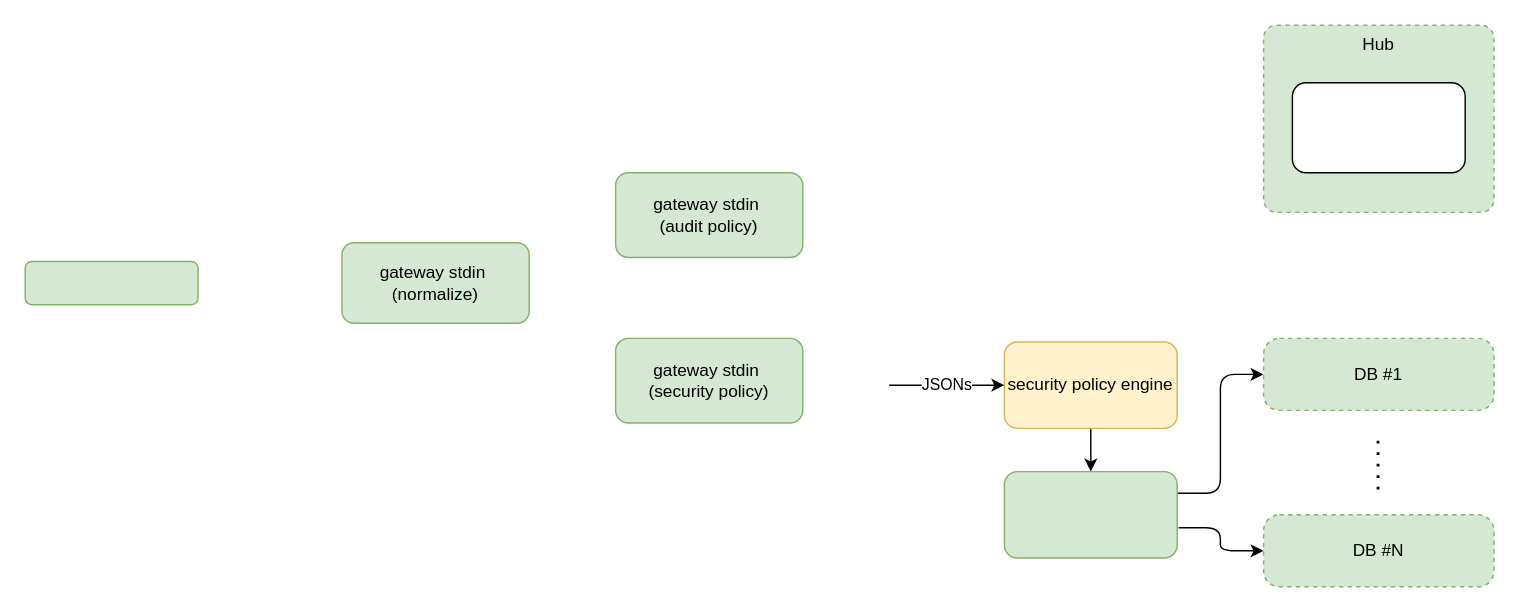
Image size: 1519x612. Some labels were removed from this diagram. The centre of each missing label's shape, as x and y in pixels:
"Connections REST API Server" belongs at (x=1090, y=514).
"rsyslog" belongs at (x=111, y=282).
"sonargd" belongs at (x=1378, y=127).
